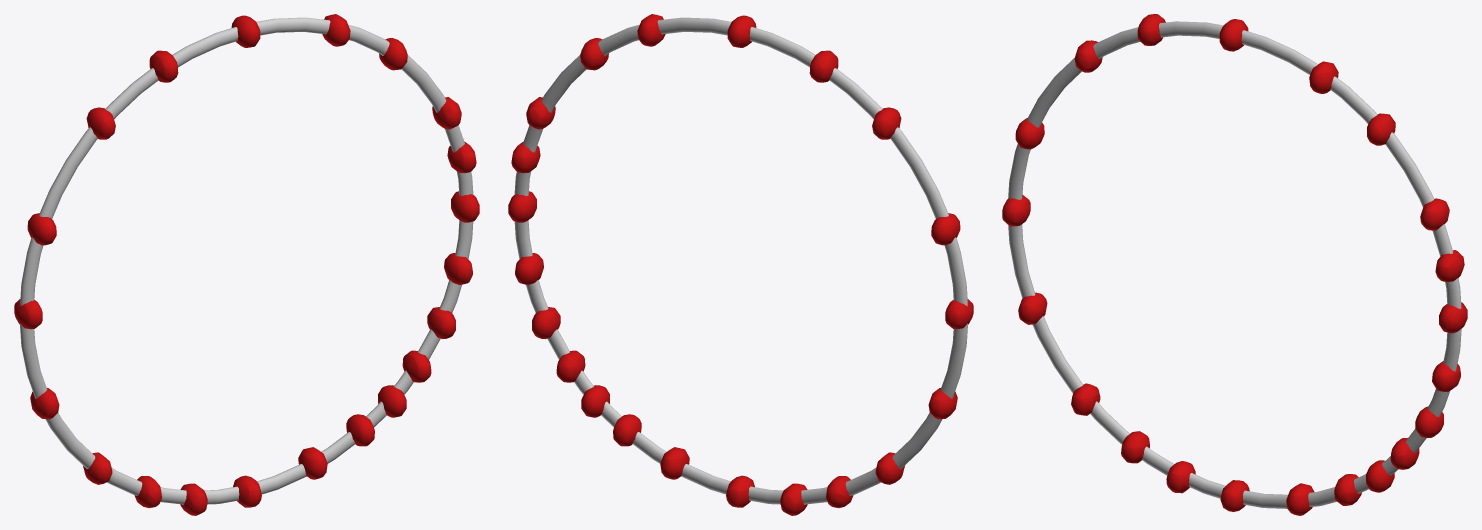
3 renders of one model, left to right at view 1: azimuth 30°, elevation 25°; view 2: azimuth 150°, elevation 25°; view 3: azimuth 330°, elevation 25°, orthographic.
Parts seen in each view (by area): view 1: Electron_Mball, Ring_Torus; view 2: Electron_Mball, Ring_Torus; view 3: Electron_Mball, Ring_Torus.
Boxes of the visible parts, left/top/right/bottom form: Electron_Mball: left=14, top=14, right=479, bottom=515; Ring_Torus: left=20, top=17, right=473, bottom=504; Electron_Mball: left=508, top=14, right=973, bottom=515; Ring_Torus: left=514, top=17, right=967, bottom=504; Electron_Mball: left=1002, top=14, right=1467, bottom=515; Ring_Torus: left=1008, top=21, right=1461, bottom=508.
Size of the model in its own units: 2.91 by 2.96 by 0.2136.
